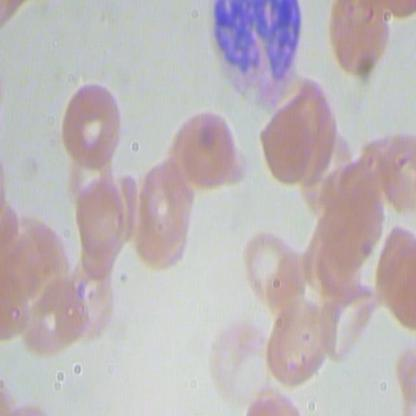RBC: (259, 289, 336, 396), (16, 268, 92, 371), (132, 153, 192, 276), (204, 309, 272, 413), (58, 77, 125, 179), (172, 99, 239, 200), (315, 170, 382, 271), (254, 101, 316, 198), (71, 169, 133, 265), (244, 217, 306, 313), (323, 1, 393, 84), (370, 218, 415, 338), (321, 282, 382, 370), (12, 203, 67, 298), (376, 125, 415, 215)
WBC: (202, 1, 306, 111)
